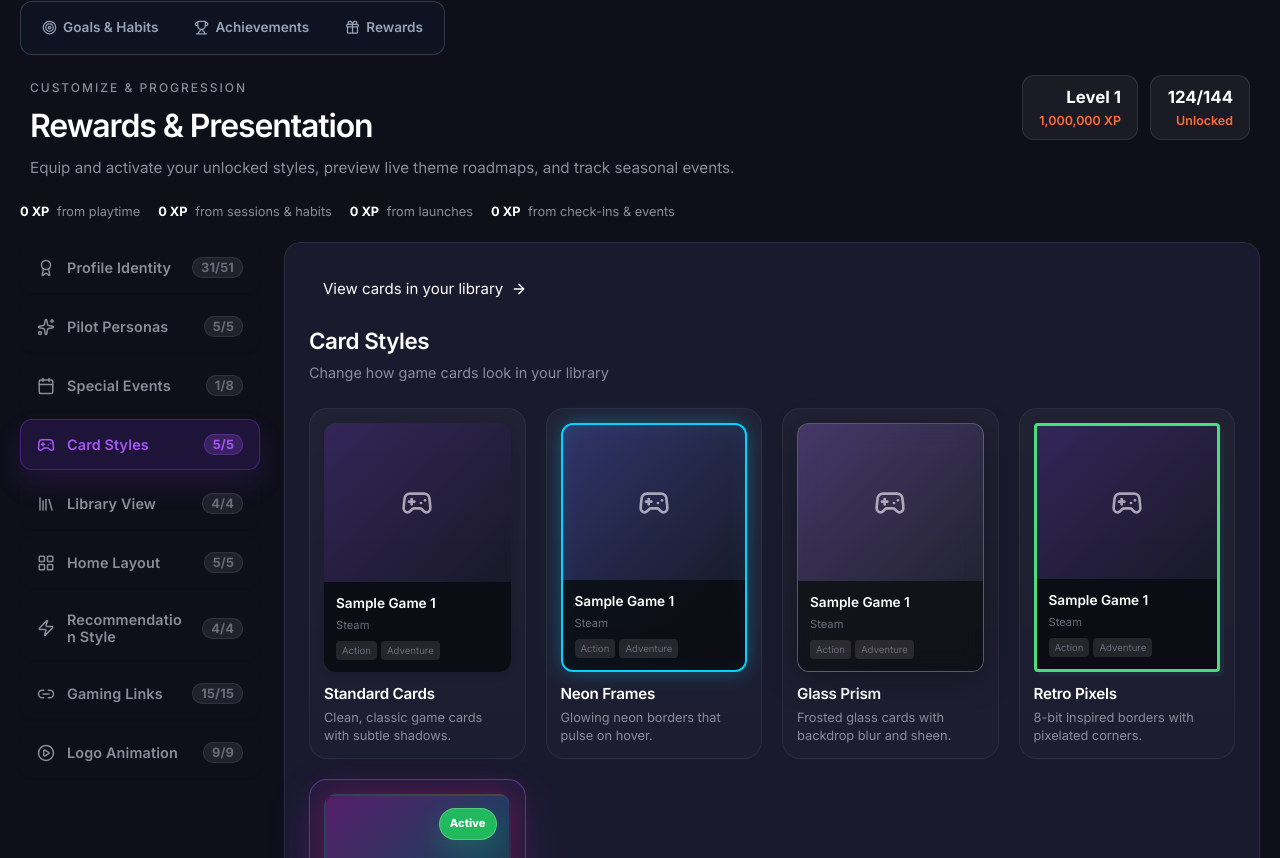
Test: Home reward previews use the same layout definitions as Today
Click the button "Home Layout 5/5" at coordinates (140, 563), box [20,537,260,588]
(page scrolled)
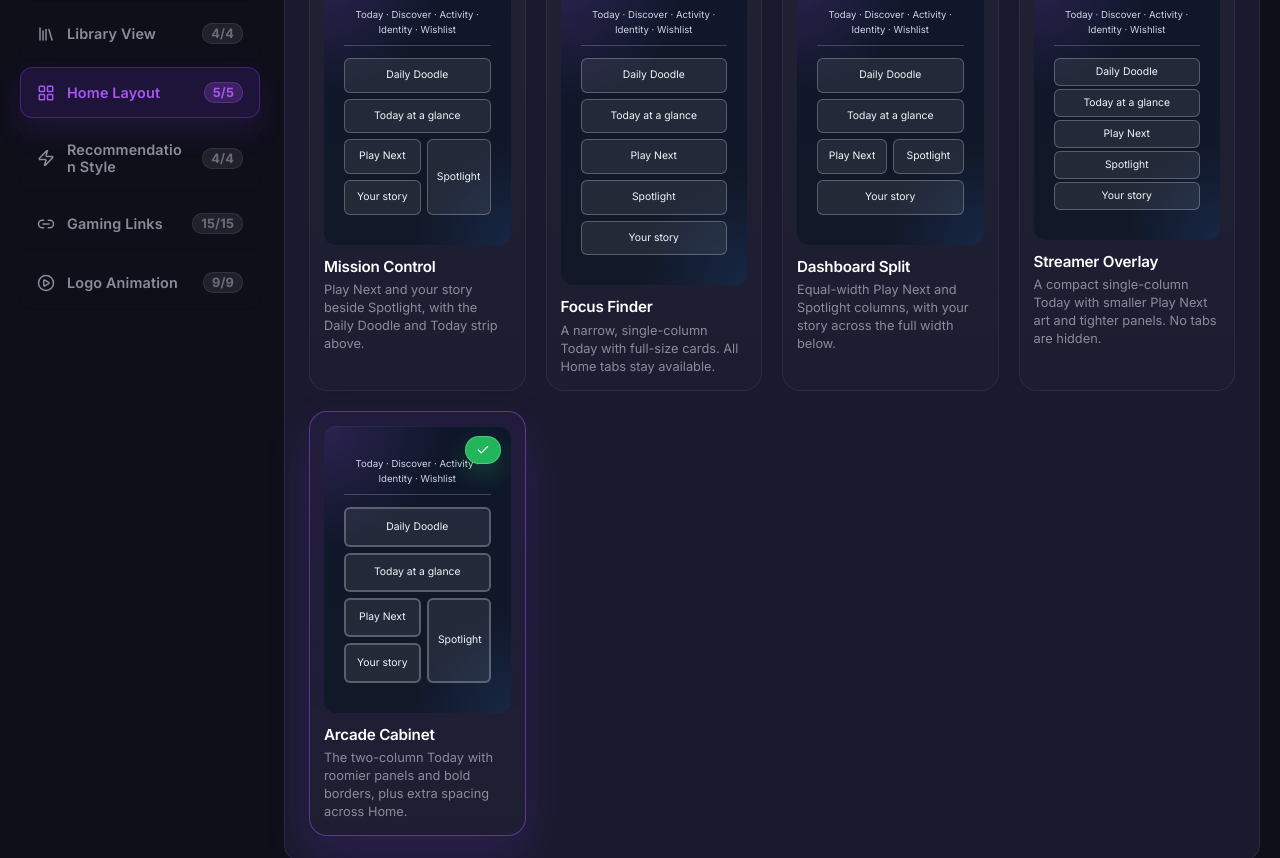
Result: the button with aria-label "Arcade Cabinet" shows "Today · Discover · Activity · Identity · Wishlist" at [309,411,526,836]
